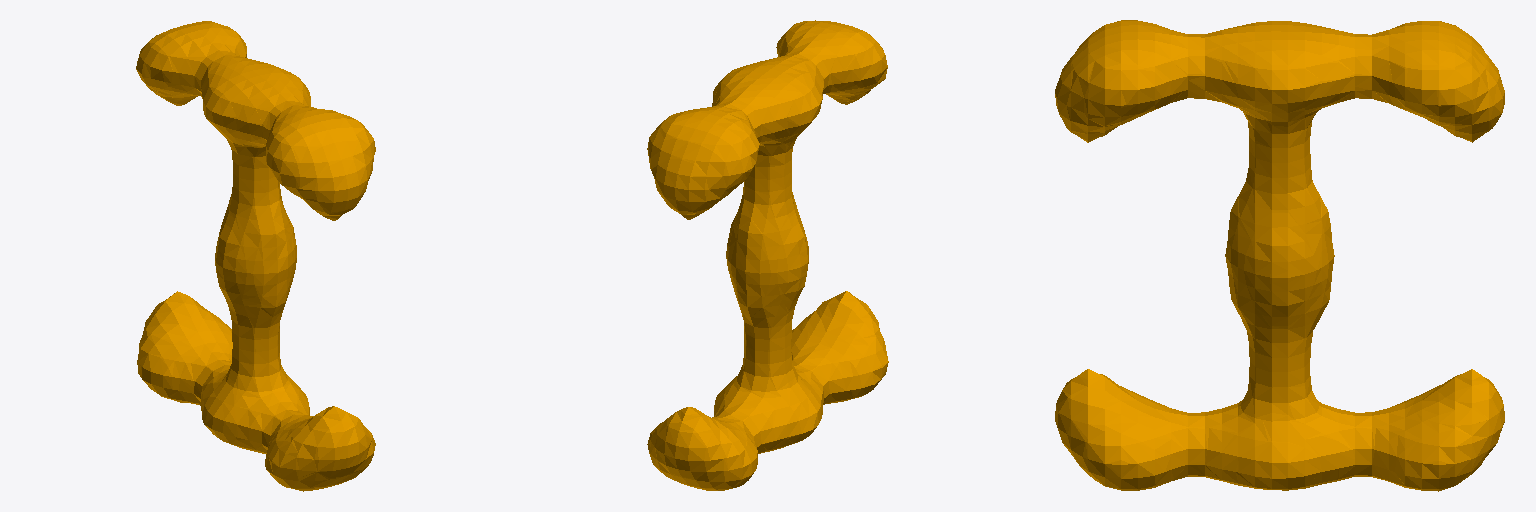
URDF robot description (V19_0):
<?xml version="1.0"?>
<robot name="V19_0">
  <link name="base_link">
    <inertial>
      <mass value="0.11664" />
      <origin xyz="0 0 0" />
      <inertia  ixx="0.0002" ixy="0.0"  ixz="0.0"  iyy="0.0002"  iyz="0.0" izz="0.0002" />
    </inertial>
    <visual>
      <geometry>
        <mesh filename="../../../meshes/egad/train/V19_0.obj" />
      </geometry>
    </visual>
    <collision>
      <geometry>
        <mesh filename="../../../meshes/egad/train/V19_0.obj" />
      </geometry>
    </collision>
  </link>
</robot>

--- Facts derived from the render (not from the file) ---
The picture shows the robot from 3 angles, left to right: view 1: azimuth 30°, elevation 25°; view 2: azimuth 150°, elevation 25°; view 3: azimuth 270°, elevation 25°; orthographic projection.
Model V19_0 with 1 links and 0 joints (none), rooted at base_link, posed every joint at zero.
Visible links, largest first — view 1: base_link; view 2: base_link; view 3: base_link.
Link boxes in pixels (x1,y1,x2,y2): base_link: [136, 21, 375, 491]; base_link: [647, 20, 888, 490]; base_link: [1055, 20, 1504, 491].
Bounding box of the posed robot: 0.0213 × 0.0683 × 0.075 m (x, y, z).
1 mesh visuals loaded from 1 distinct referenced files (1 OBJ).